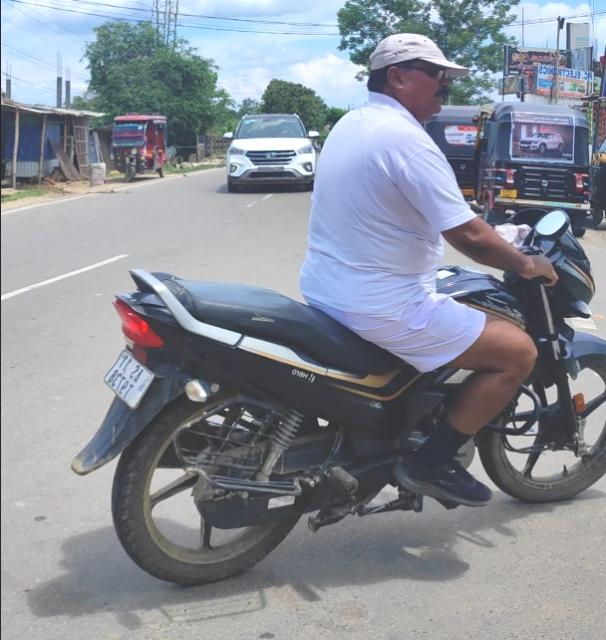licensePlate: (99, 357, 153, 408)
motorcycle: (74, 32, 606, 587)
withoutHelmet: (363, 34, 465, 121)
